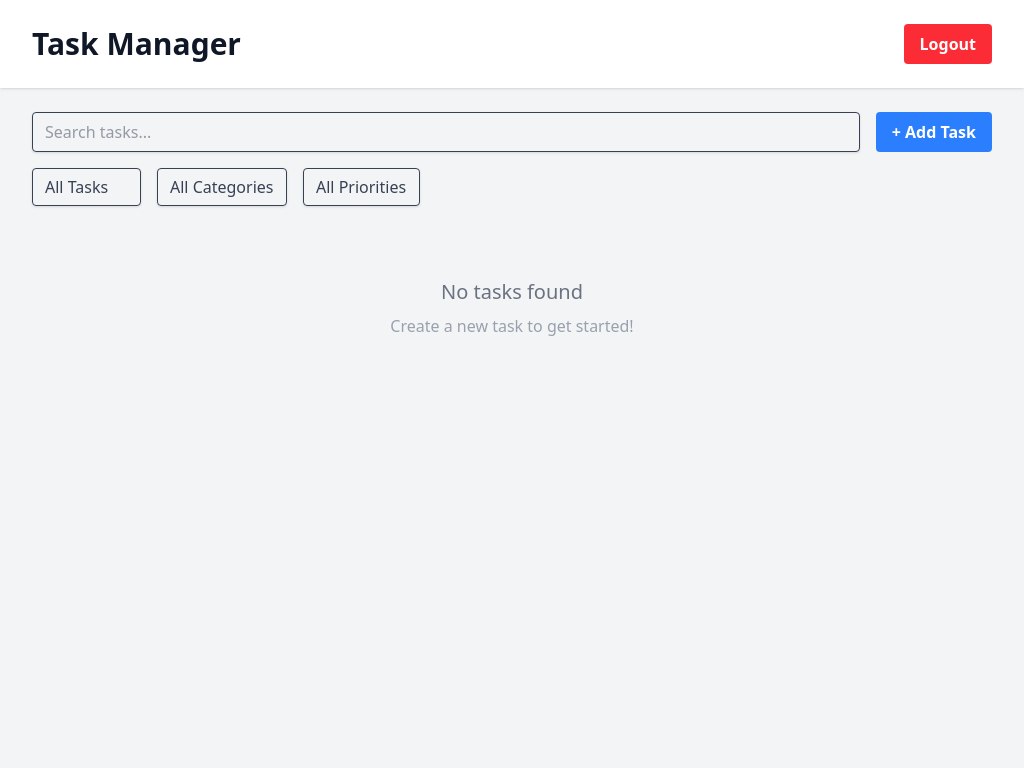
Test: TaskManager › shows error notification when logout fails
The image size is (1024, 768).
Click the button with aria-label "logout from application" at {"x": 948, "y": 44}, box [904,24,992,64]
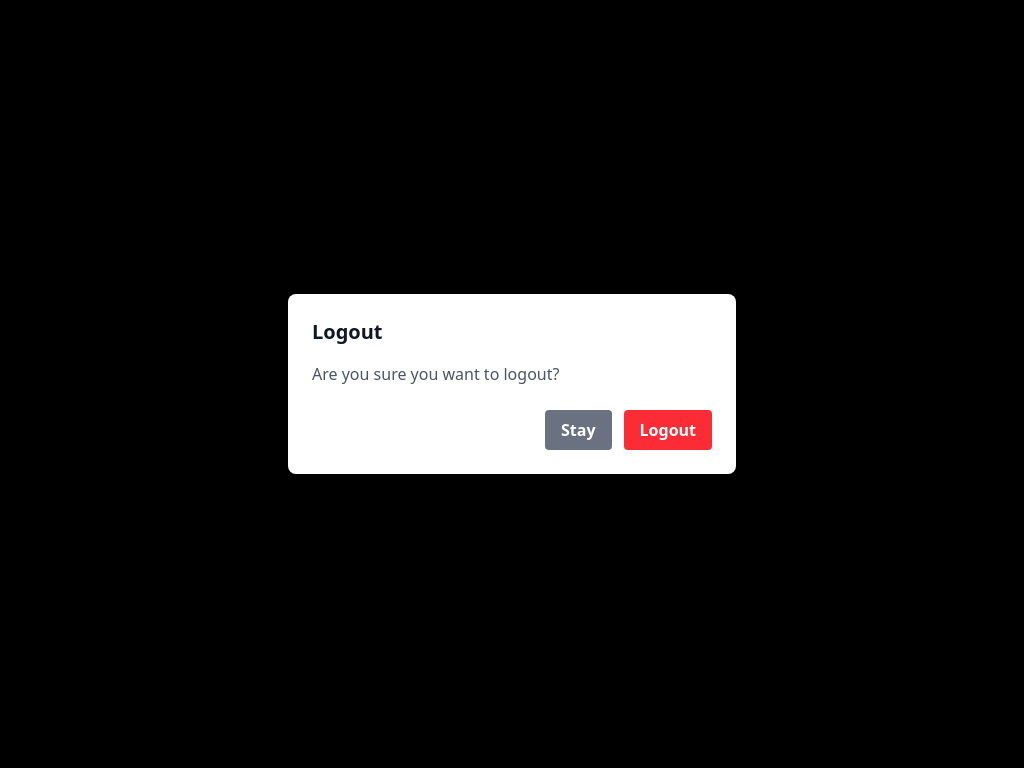
Click the button with aria-label "logout action" at {"x": 668, "y": 430}, box [624,410,712,450]
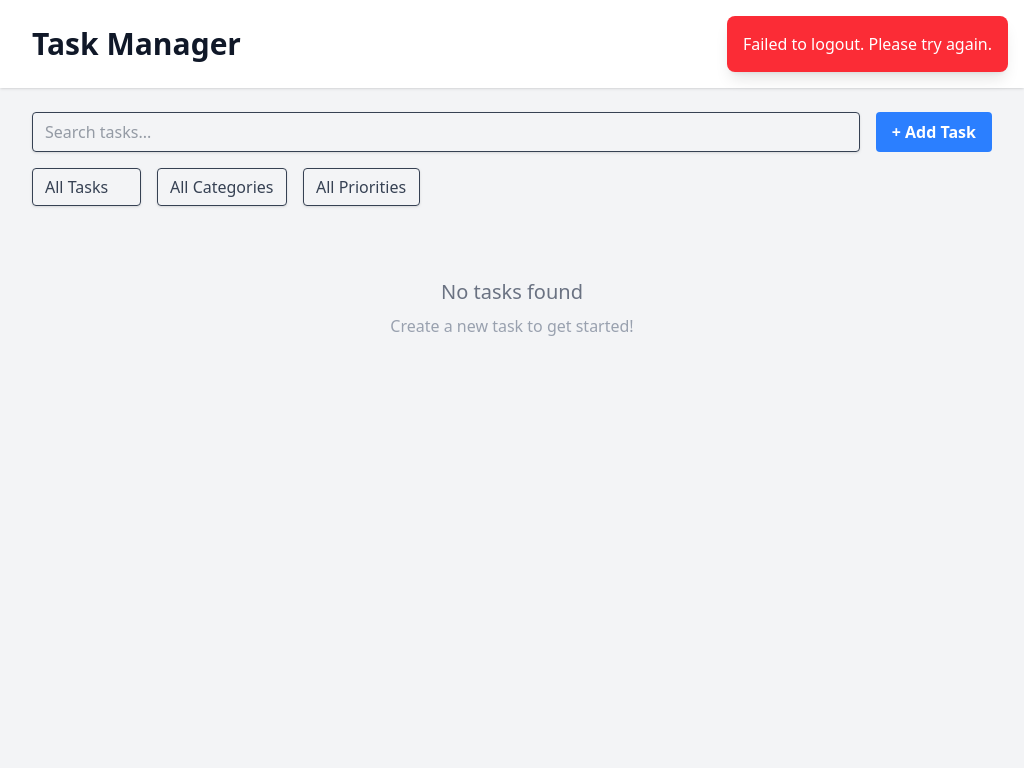
Check: the text "Failed to logout. Please try again." is shown, box [727,16,1008,72]
